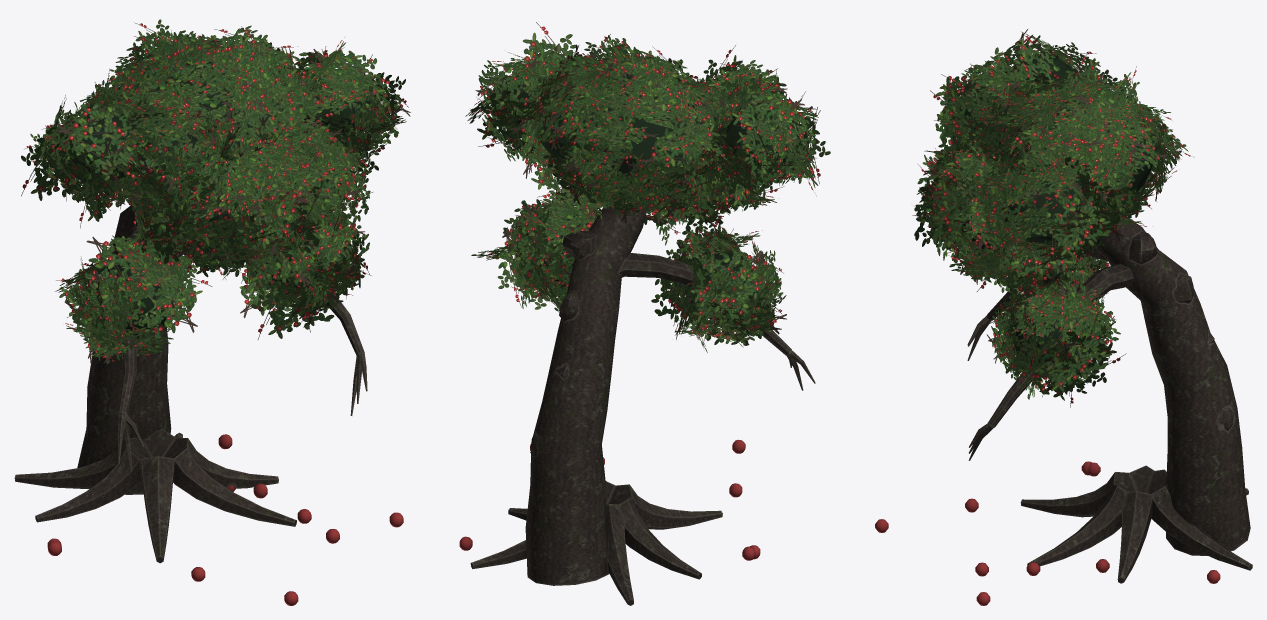
Rendered from GnarledCrabapple.fbx.
3 views of the same model, side by side, from view 1: azimuth 30°, elevation 25°; view 2: azimuth 150°, elevation 25°; view 3: azimuth 270°, elevation 25° (orthographic). The views are drawn at different scales.
Visible parts, largest first — view 1: GnarledCrabapple_Leaves, GnarledCrabapple_Main; view 2: GnarledCrabapple_Leaves, GnarledCrabapple_Main; view 3: GnarledCrabapple_Leaves, GnarledCrabapple_Main.
Boxes of the visible parts, x1,y1,x2,y2 form: GnarledCrabapple_Leaves: (21,19,410,366); GnarledCrabapple_Main: (14,56,403,605); GnarledCrabapple_Leaves: (465,22,830,352); GnarledCrabapple_Main: (459,74,815,605); GnarledCrabapple_Leaves: (912,29,1194,407); GnarledCrabapple_Main: (875,53,1252,605).
Size of the model in its own units: 764 by 971 by 689.
